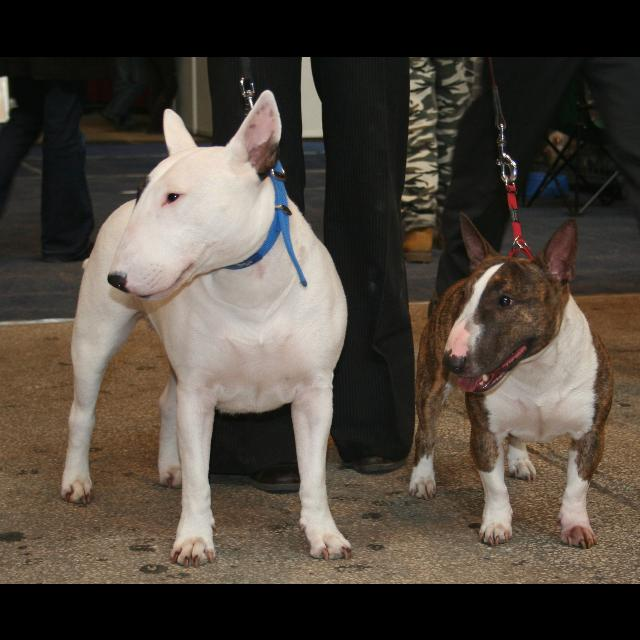bullterrier: (62, 88, 355, 568), (409, 211, 615, 549)
